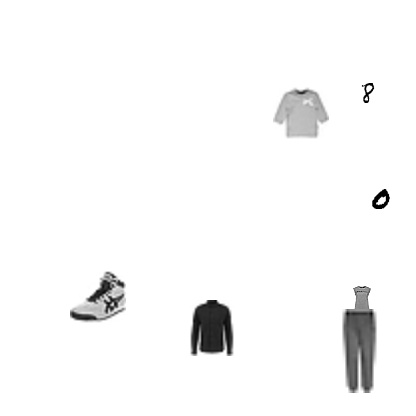0: (367, 185, 395, 213)
8: (353, 78, 381, 106)
Dress: (273, 84, 329, 140)
Shirt: (183, 300, 239, 356), (348, 286, 376, 314)
Sneaker: (70, 268, 126, 324)
Trouser: (316, 309, 400, 393)
